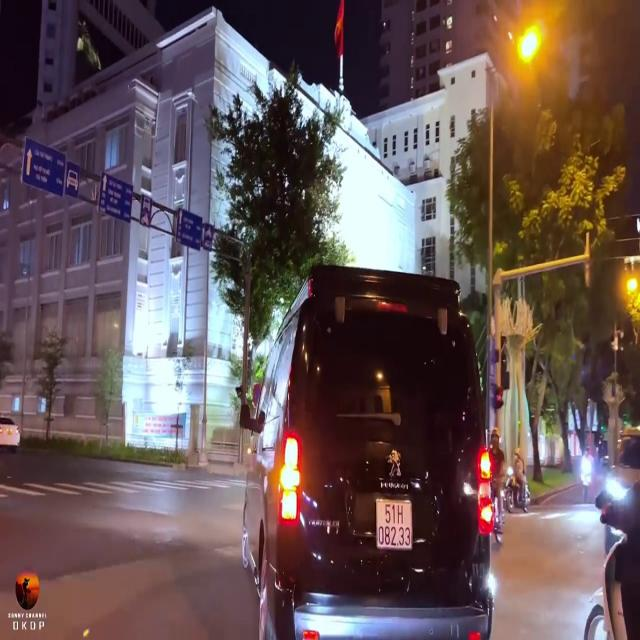bien_trang: (374, 500, 414, 552)
